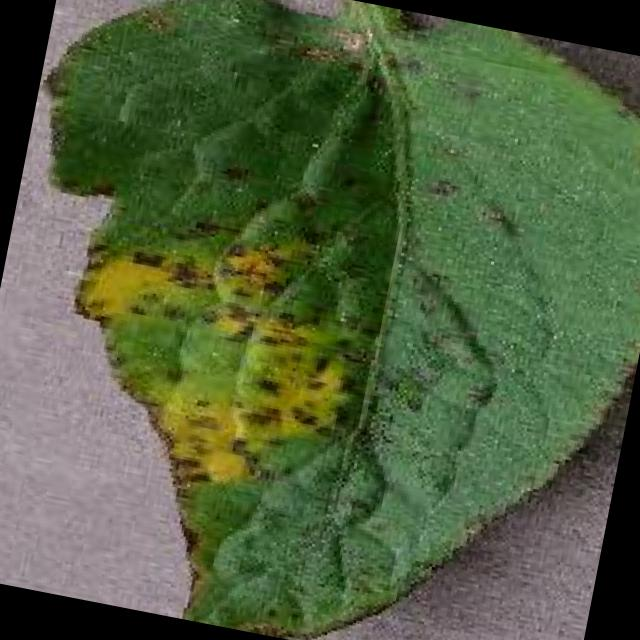bacterial spot: (49, 0, 640, 640)
